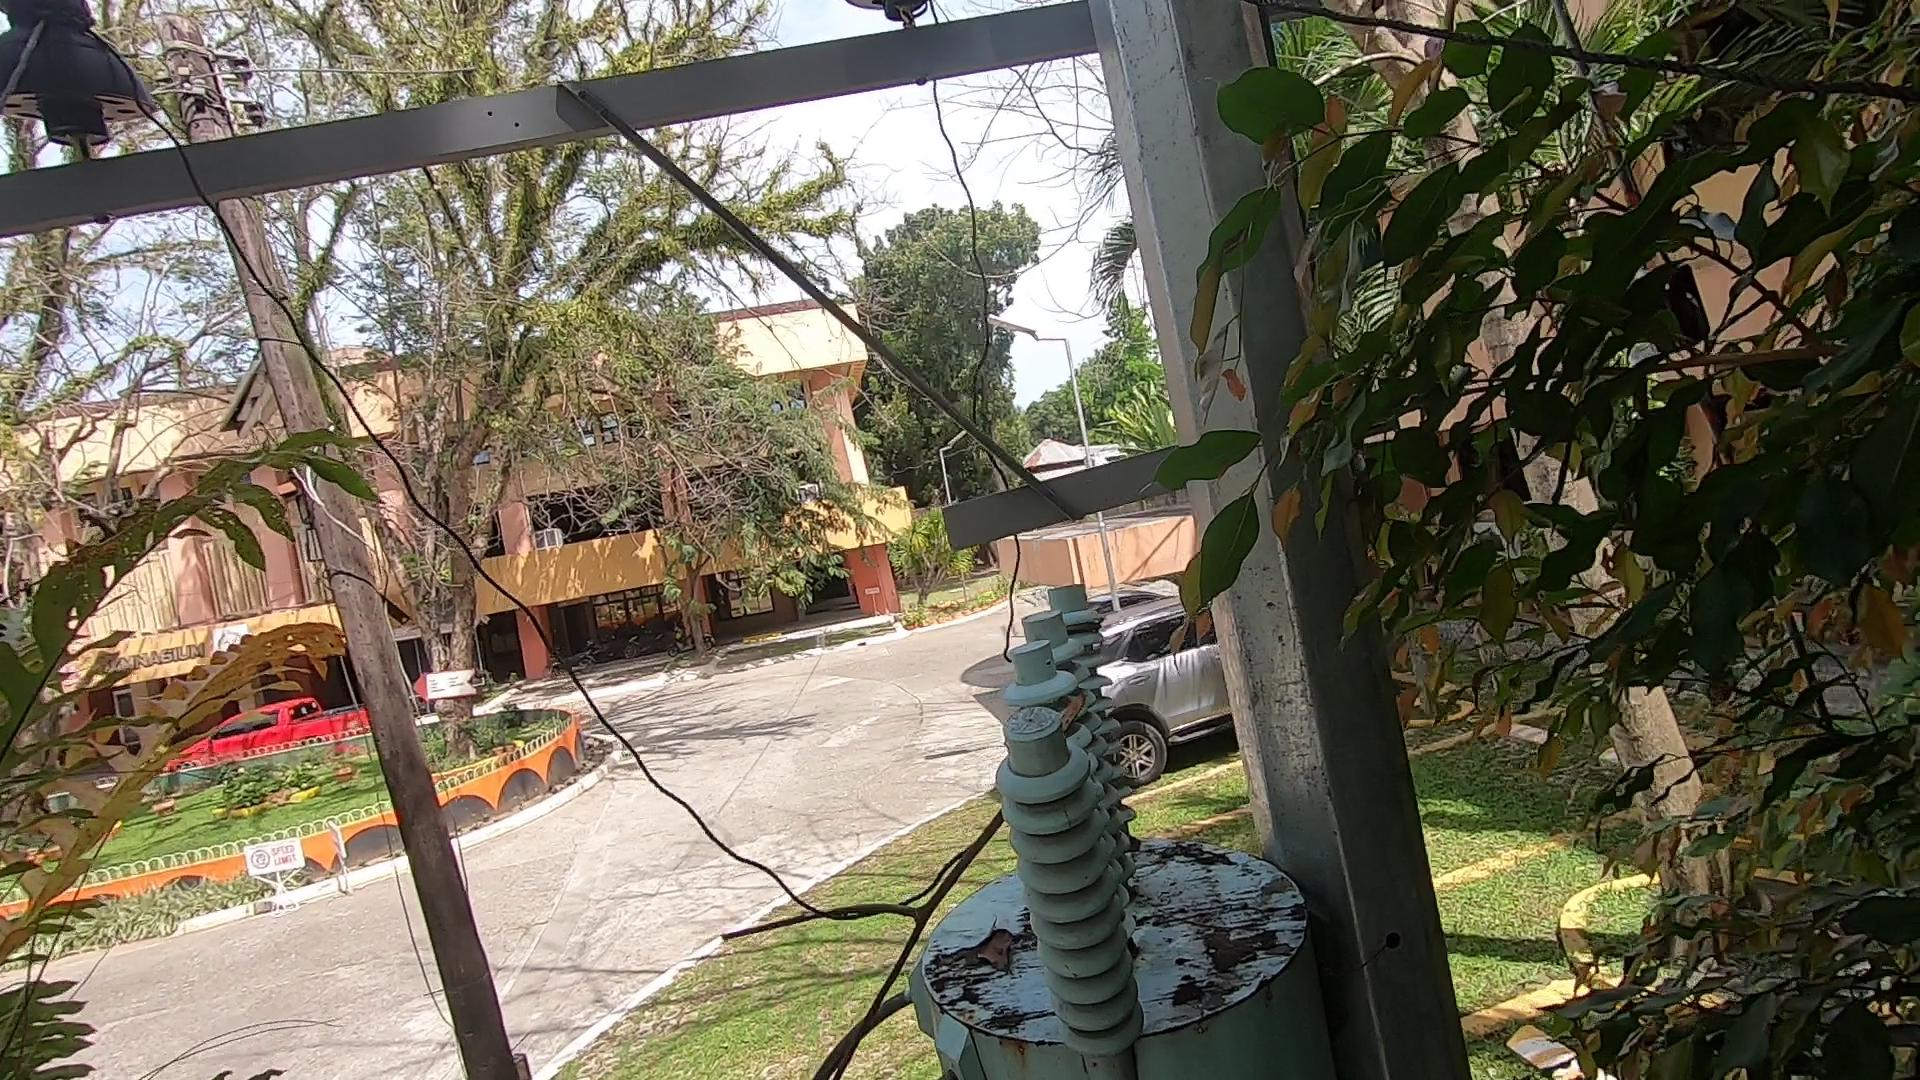leaf: (960, 907, 1021, 980)
tree branch: (686, 691, 1130, 1080)
